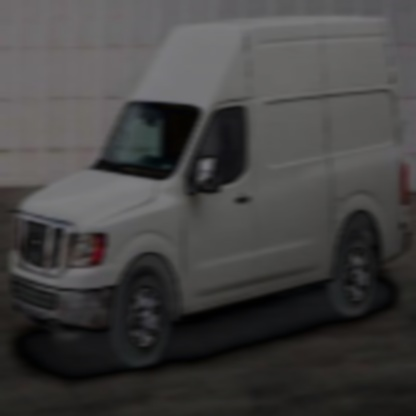Vehicle: (8, 9, 414, 393)
